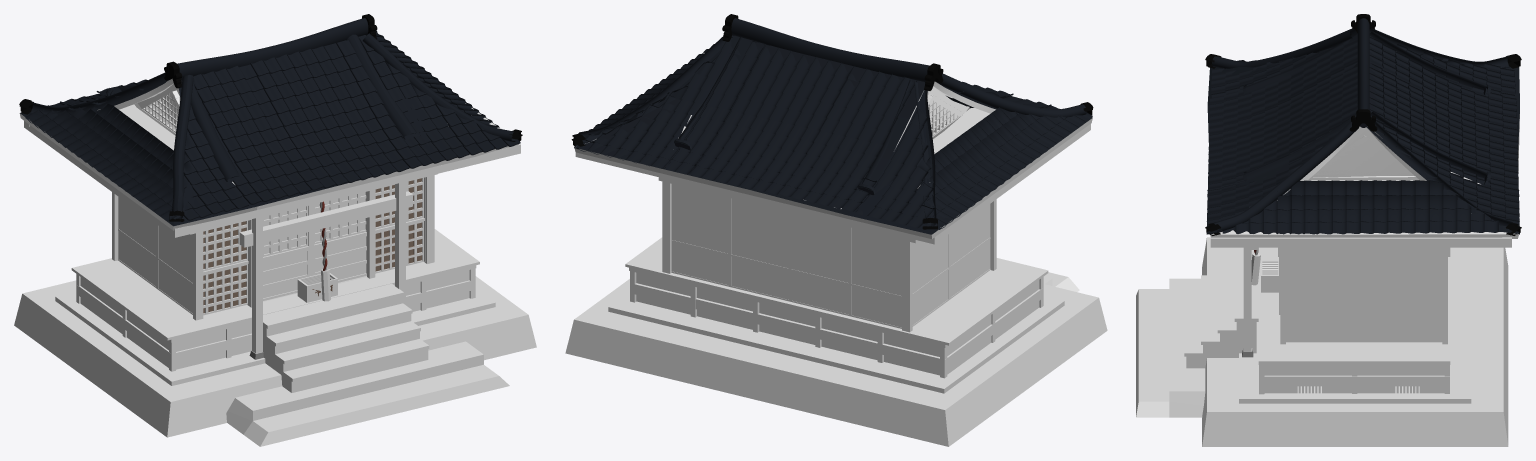
Rendered from honden.fbx.
3 renders of one model, left to right at view 1: azimuth 30°, elevation 25°; view 2: azimuth 150°, elevation 25°; view 3: azimuth 270°, elevation 25°, orthographic. The views are drawn at different scales.
Visible parts, largest first — view 1: Cylinder, Cube, Cube.023, Cube.001, Cube.002, Plane, BezierCurve.002, Plane.009, Cube.015, Cube.016, Cube.006, Cube.004 (+5 smaller); view 2: Cylinder, Cube, Cube.023, BezierCurve.002, Plane, Cube.015, Cube.016, Plane.009, Plane.011; view 3: Cylinder, Cube, Cube.023, Cube.001, BezierCurve.002, Plane, Cube.002, Plane.009, Cube.015, Cube.016, Plane.011, Cube.003 (+1 smaller).
Boxes of the visible parts, x1,y1,x2,y2 form: Cylinder: (25,18,520,221); Cube: (14,276,536,437); Cube.023: (112,174,437,320); Cube.001: (226,341,509,446); Cube.002: (263,283,429,392); Plane: (71,229,479,342); BezierCurve.002: (19,35,518,230); Plane.009: (24,121,520,237); Cube.015: (80,270,469,369); Cube.016: (76,268,475,371); Cube.006: (311,192,366,283); Cube.004: (263,205,311,301); Cylinder: (574,18,1092,229); Cube: (565,279,1107,446); Cube.023: (658,177,996,332); BezierCurve.002: (574,35,1092,238); Plane: (625,237,1048,347); Cube.015: (636,272,1039,375); Cube.016: (630,271,1043,378); Plane.009: (575,124,1090,244); Plane.011: (571,14,1093,229); Cylinder: (1206,18,1519,234); Cube: (1202,237,1508,446); Cube.023: (1278,247,1450,344); Cube.001: (1136,278,1205,417); BezierCurve.002: (1207,36,1519,238); Plane: (1258,247,1450,364); Cube.002: (1184,252,1258,368); Plane.009: (1210,237,1511,247); Cube.015: (1264,365,1444,393); Cube.016: (1259,365,1449,394); Plane.011: (1205,14,1521,235); Cube.003: (1242,247,1253,357).
Bounding box in the file's own units: 2111 × 1602 × 1909.
